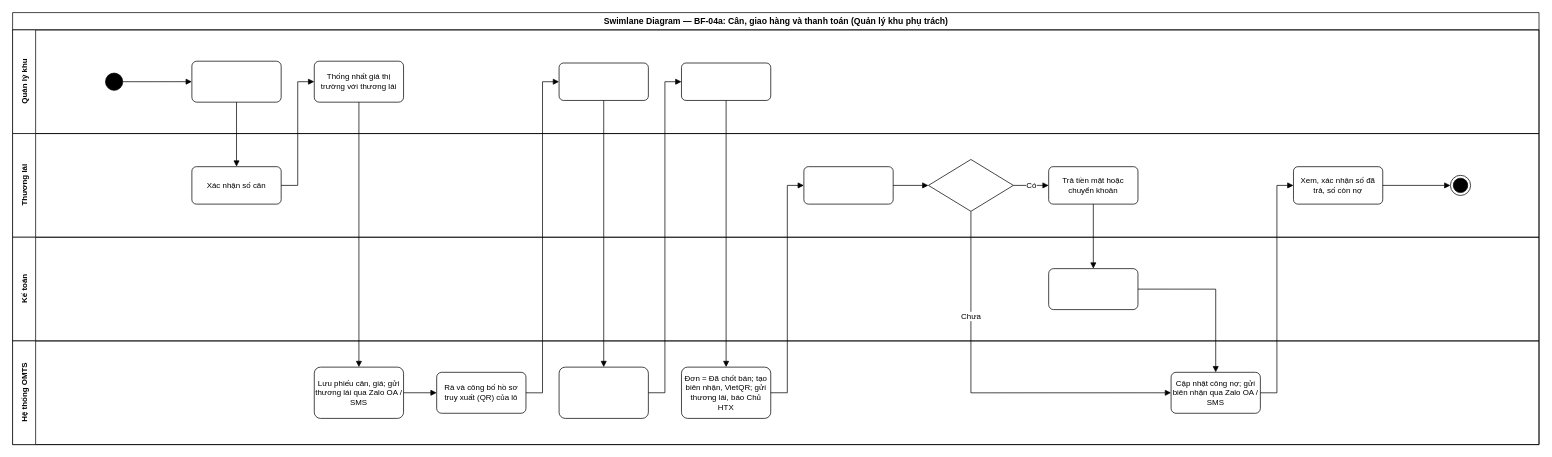
Image size: 1552x457. Some labels were removed from this diagram. Each missing label, with the centre of its shape:
Bàn giao hàng tại cảng: [603,81]
Cân chung toàn bộ hàng cùng thương lái: [236,81]
Ghi tiền thực nhận, phân bổ vào giao dịch: [1093,289]
Trạng thái = Đã bàn giao; tính kg × giá, làm tròn lên nghìn: [603,392]
Trả tiền ngay?: [970,185]
Xem, xác nhận số tiền: [848,185]
Xác nhận số tiền cuối: [726,81]
